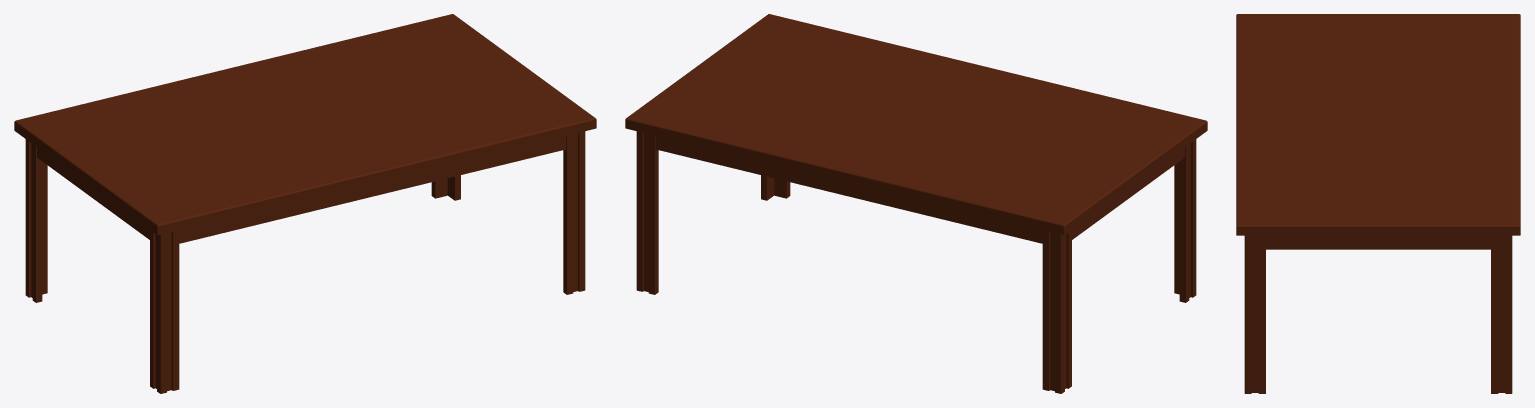
Rendered from TableReplacement.obj.
3 views of the same model, side by side, from view 1: azimuth 30°, elevation 25°; view 2: azimuth 150°, elevation 25°; view 3: azimuth 270°, elevation 25° (orthographic).
Bounding box in the file's own units: 53 × 20 × 30.
